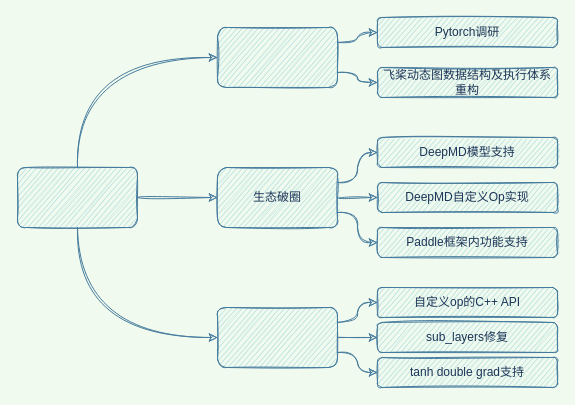
This 575x405 diagram has some shape labels left out. The shapes that lost their labels are listed below. From the top down, each one's centre as x and y in pixels, then its label:
At [277,57]: "调研与长线技术方案".
At [77,197]: "2021上半年总结".
At [277,337]: "核心功能开发".
